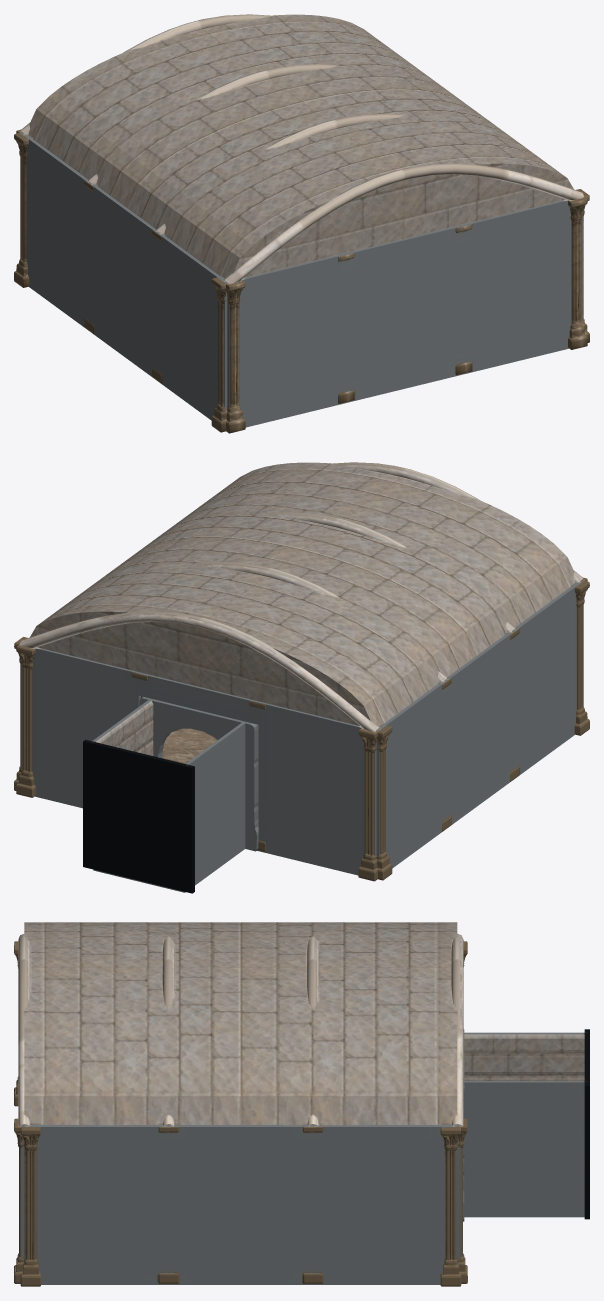
File: room.glb
3 renders of one model, top to bottom at view 1: azimuth 30°, elevation 25°; view 2: azimuth 150°, elevation 25°; view 3: azimuth 270°, elevation 25°, orthographic. The views are drawn at different scales.
Parts seen in each view (by area): view 1: TROPHY-ROOM; view 2: TROPHY-ROOM; view 3: TROPHY-ROOM.
Part boxes in pixels (x1,y1,x2,y2): TROPHY-ROOM: [14, 14, 589, 433]; TROPHY-ROOM: [14, 462, 589, 893]; TROPHY-ROOM: [14, 922, 589, 1286].
Size of the model in its own units: 10.48 by 5.95 by 13.3.
1 material, 1 textured.
